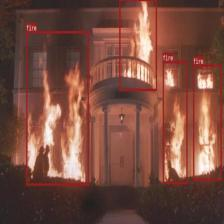fire: (26, 30, 88, 185), (119, 0, 157, 90), (193, 64, 221, 180), (162, 60, 187, 184)
